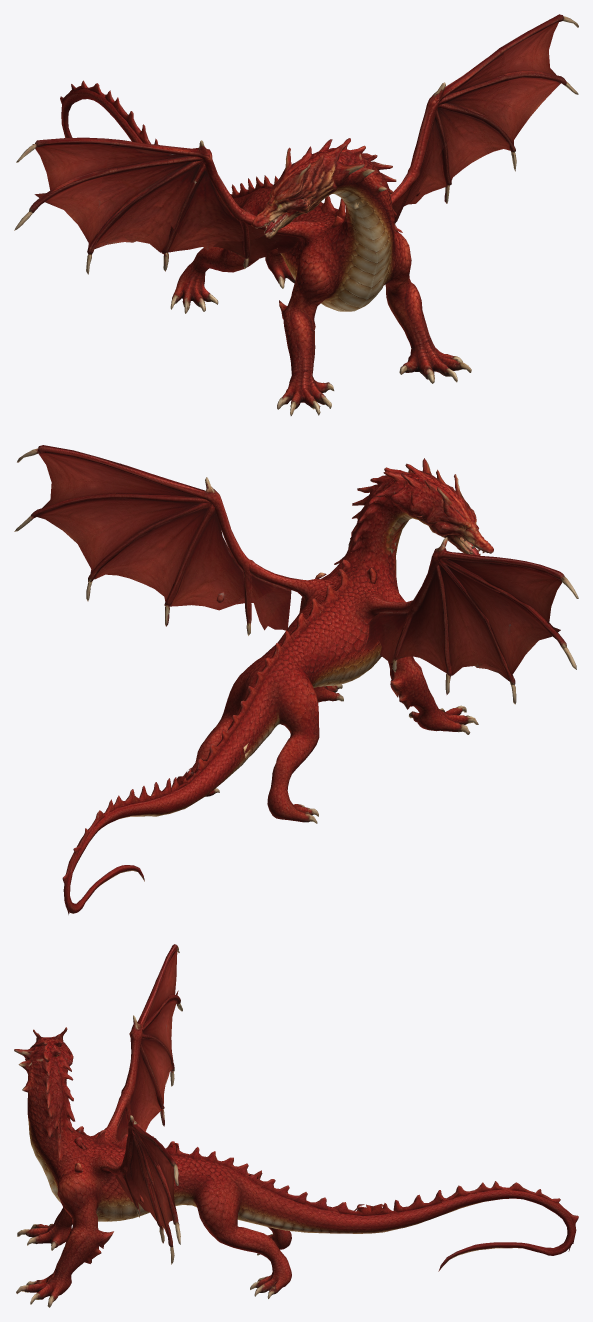
The model's file is dragex-meshy.glb.
The picture shows the model from 3 angles, top to bottom: view 1: azimuth 30°, elevation 25°; view 2: azimuth 150°, elevation 25°; view 3: azimuth 270°, elevation 25°; orthographic projection. The views are drawn at different scales.
Bounding box in the file's own units: 0.9779 × 0.43 × 0.9997.
1 material, 1 textured.
